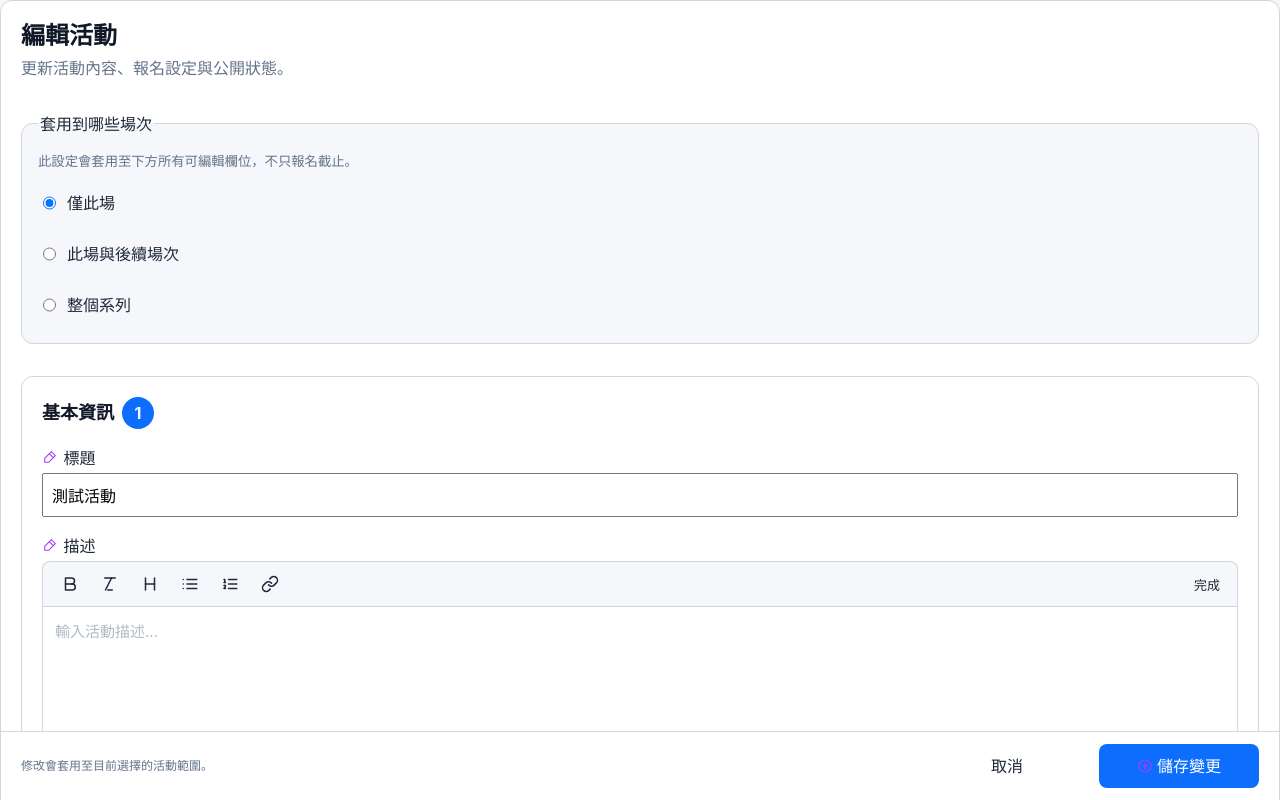
Scenario: EditEventPage edit lock › disables recurring occurrence start time outside single scope
Click the radio button labelled "此場與後續場次" at coordinates (50, 254), box [43,232,56,276]
(page scrolled)
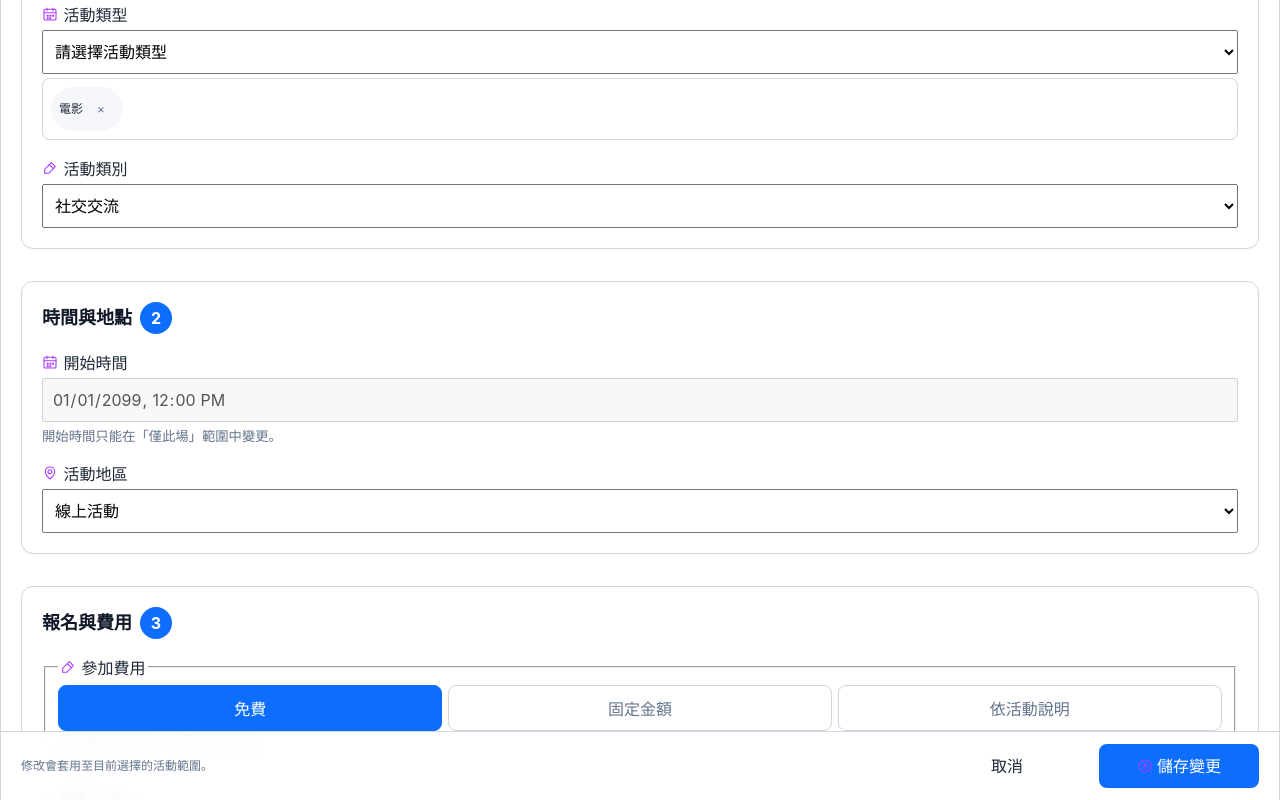
Check: the field labelled "開始時間" is disabled, box [42,378,1238,422]
